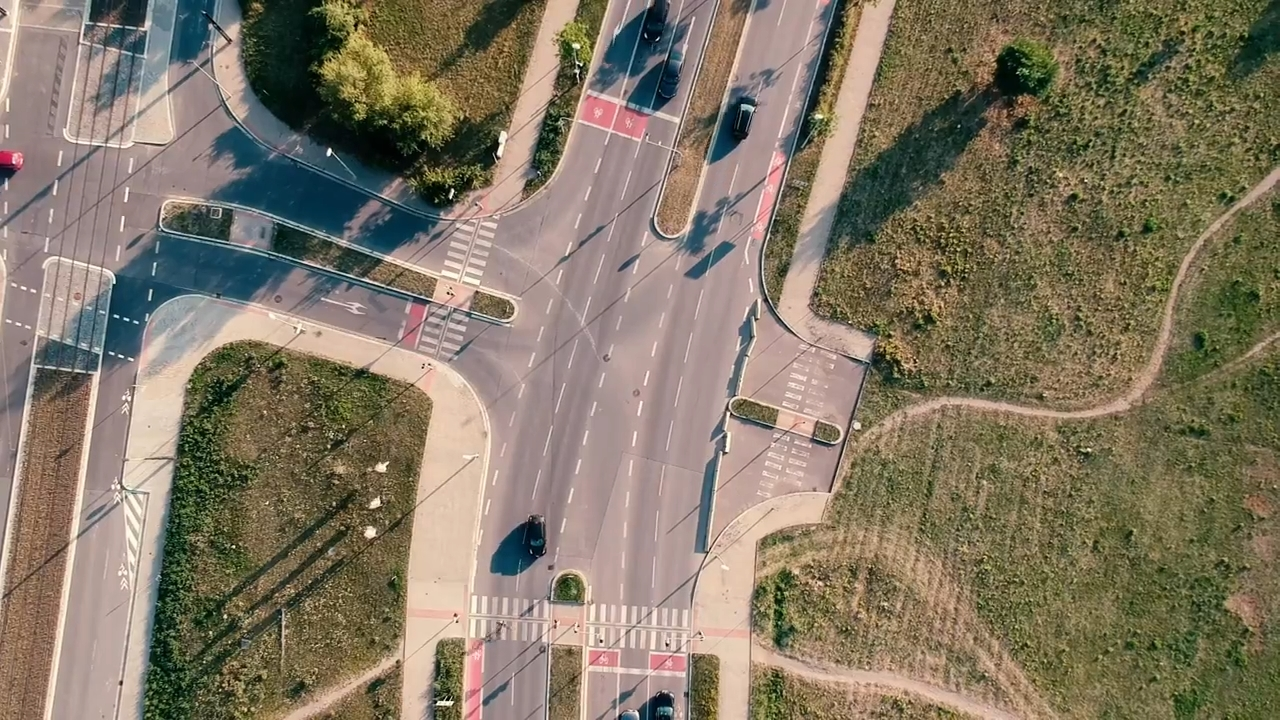car: (657, 48, 687, 98), (640, 1, 672, 43), (731, 95, 758, 139), (528, 513, 547, 558), (651, 689, 675, 720), (1, 151, 27, 172), (618, 709, 642, 720)
